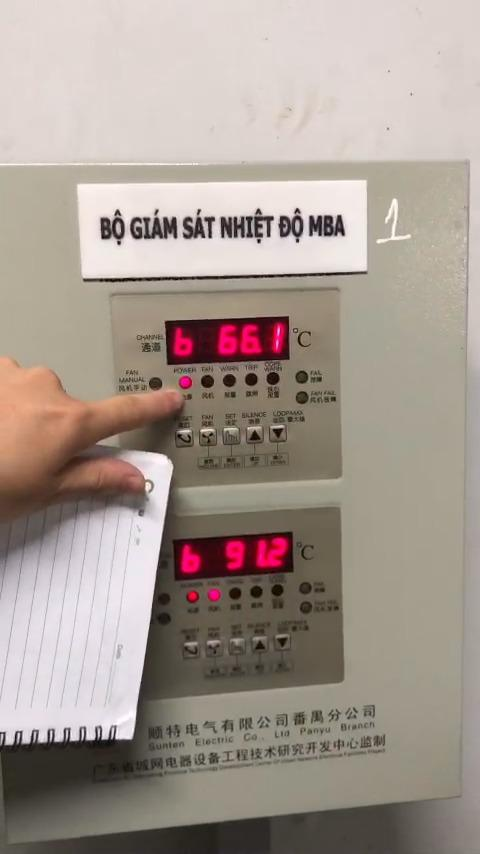led: (243, 372, 260, 388), (177, 375, 193, 391), (184, 588, 200, 604), (294, 369, 309, 386), (265, 372, 281, 387), (222, 373, 237, 389), (200, 374, 215, 390), (148, 376, 164, 391), (294, 390, 309, 406), (298, 580, 314, 595), (248, 583, 263, 599), (206, 588, 221, 604), (270, 583, 285, 598), (228, 586, 243, 601), (299, 600, 313, 615), (157, 612, 172, 626), (158, 593, 172, 607)
